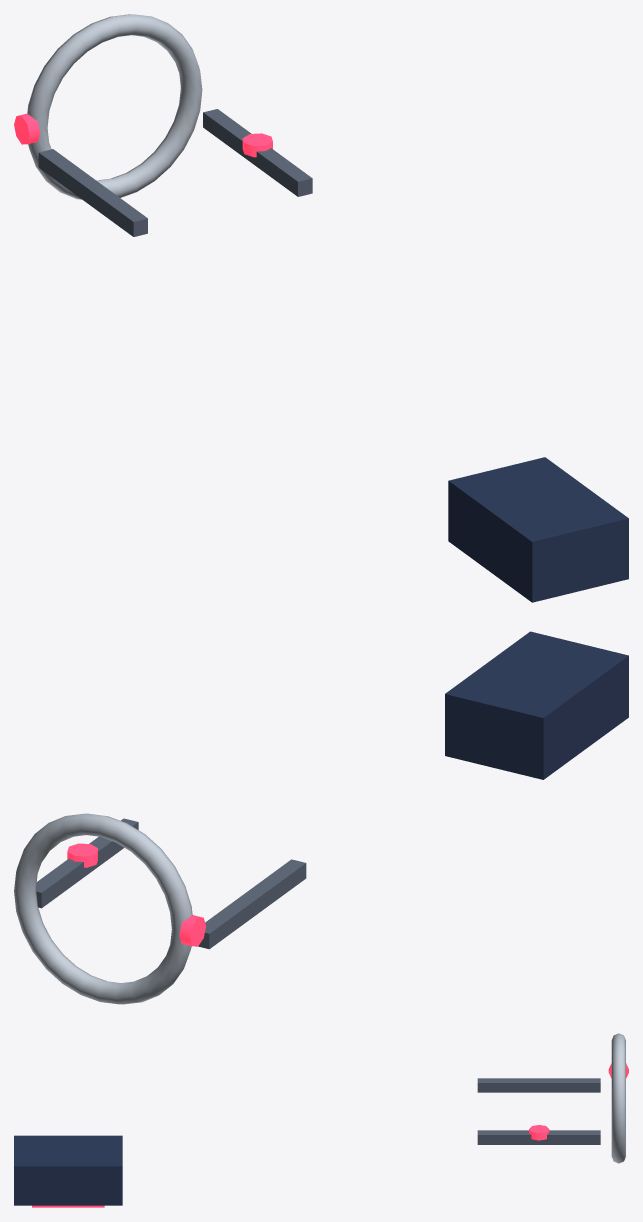
Rendered from tower_filament_peak_s4.glb.
3 views of the same model, one above another, from view 1: azimuth 30°, elevation 25°; view 2: azimuth 150°, elevation 25°; view 3: azimuth 270°, elevation 25° (orthographic). The views are drawn at different scales.
Parts seen in each view (by area): view 1: filament_coupler, filament_aperture_ring, filament_lens_brace_r, filament_lens_brace_l; view 2: filament_coupler, filament_aperture_ring, filament_lens_brace_r, filament_lens_brace_l, filament_up_peak_l3_stud, filament_up_peak_l2_stud; view 3: filament_coupler, filament_aperture_ring, filament_lens_brace_r, filament_lens_brace_l, filament_up_peak_l2_stud.
Part boxes in pixels (x1,y1,x2,y2): filament_coupler: [448, 457, 628, 602]; filament_aperture_ring: [27, 14, 202, 199]; filament_lens_brace_r: [38, 149, 147, 236]; filament_lens_brace_l: [203, 109, 312, 196]; filament_coupler: [445, 631, 628, 779]; filament_aperture_ring: [14, 813, 192, 1004]; filament_lens_brace_r: [198, 859, 306, 949]; filament_lens_brace_l: [36, 818, 138, 908]; filament_up_peak_l3_stud: [179, 915, 205, 946]; filament_up_peak_l2_stud: [67, 843, 97, 867]; filament_coupler: [14, 1135, 122, 1205]; filament_aperture_ring: [611, 1033, 625, 1163]; filament_lens_brace_r: [477, 1078, 600, 1092]; filament_lens_brace_l: [477, 1130, 600, 1144]; filament_up_peak_l2_stud: [529, 1125, 549, 1140].
Size of the model in its own units: 0.389 by 0.48 by 1.7.
